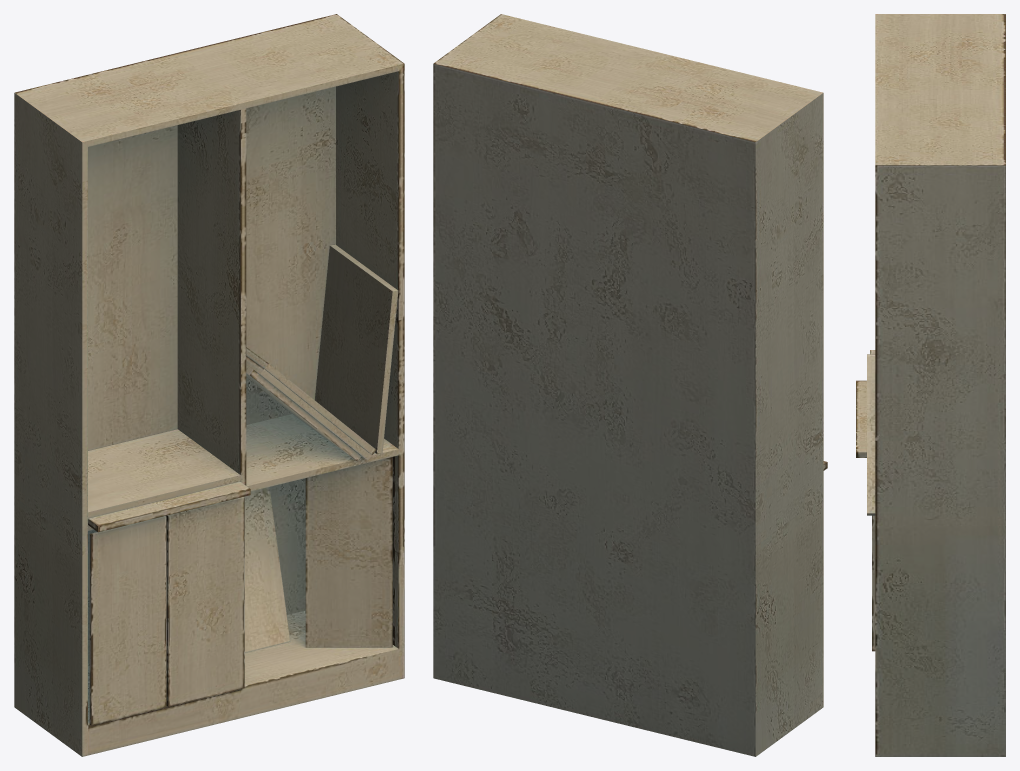
Rendered from trash_gagu002.fbx.
The picture shows the model from 3 angles, left to right: view 1: azimuth 30°, elevation 25°; view 2: azimuth 150°, elevation 25°; view 3: azimuth 270°, elevation 25°; orthographic projection. The views are drawn at different scales.
Visible parts, largest first — view 1: trash_gagu002; view 2: trash_gagu002; view 3: trash_gagu002.
Part boxes in pixels (x1,y1,x2,y2): trash_gagu002: (14,14,404,756); trash_gagu002: (433,14,827,756); trash_gagu002: (856,14,1005,756).
Size of the model in its own units: 110 by 45.88 by 200.
